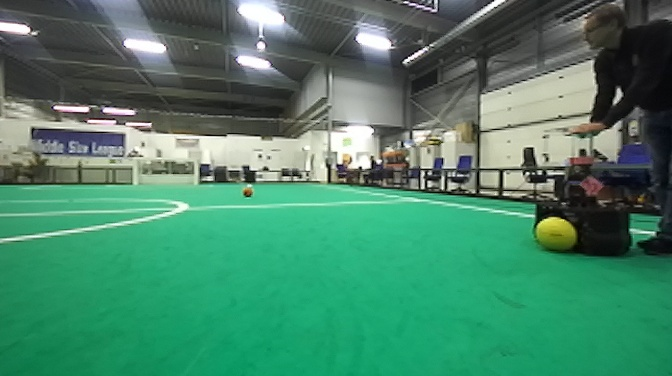ball: (532, 211, 579, 256), (241, 182, 256, 200)
goal: (134, 158, 200, 187)
goalpost: (192, 158, 200, 186), (133, 159, 138, 187)
human: (563, 1, 672, 261)
robot: (533, 129, 638, 263)
